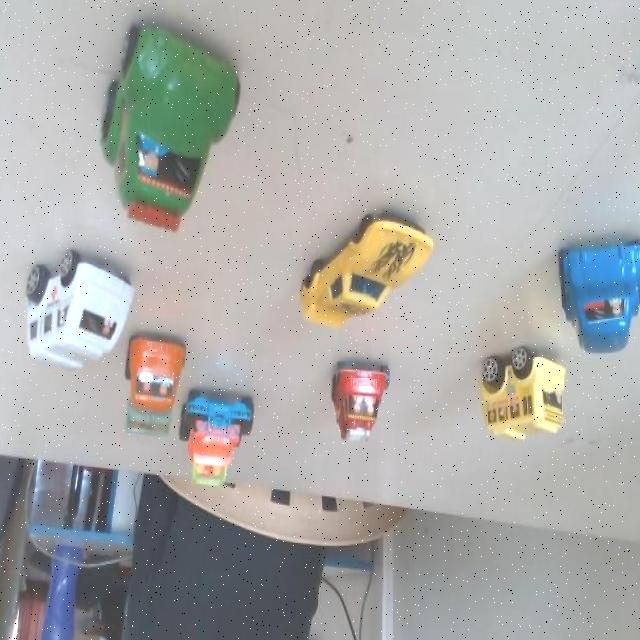car: (79, 36, 240, 228), (288, 202, 438, 339), (15, 229, 144, 388), (555, 234, 640, 356), (469, 339, 561, 443), (117, 327, 186, 449), (184, 392, 264, 495), (317, 347, 391, 452)
